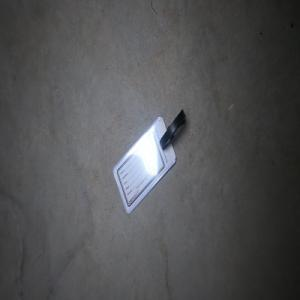LuggageTag: (110, 106, 186, 216)
